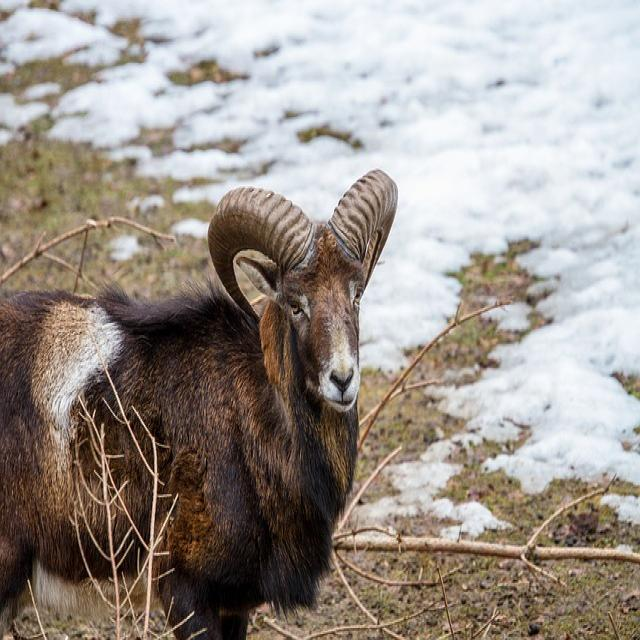sheep: (0, 167, 398, 638)
